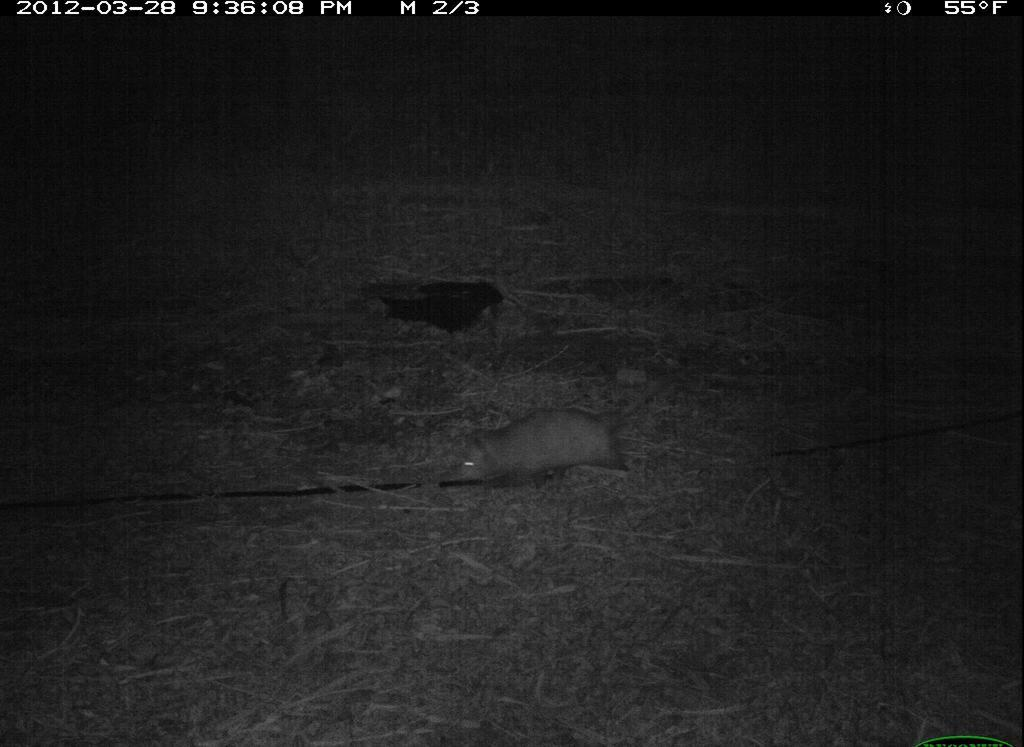opossum: (437, 395, 639, 497)
